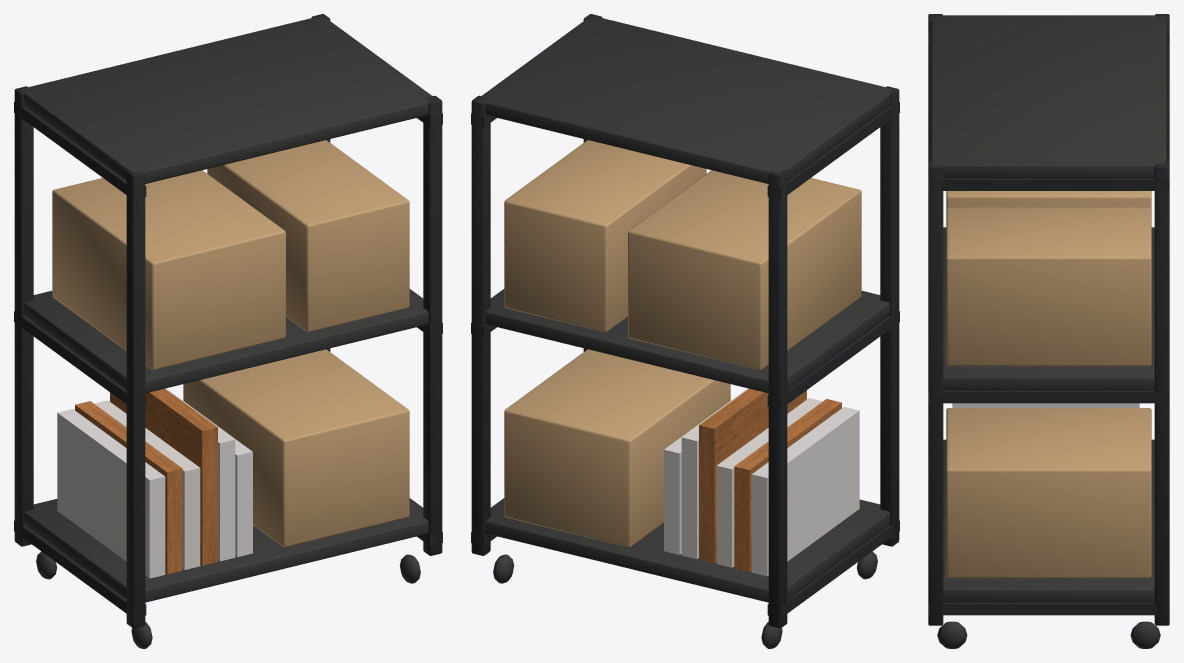
Rendered from utility.supply-cart.glb.
The picture shows the model from 3 angles, left to right: view 1: azimuth 30°, elevation 25°; view 2: azimuth 150°, elevation 25°; view 3: azimuth 270°, elevation 25°; orthographic projection.
Parts seen in each view (by area): view 1: utility.supply-cart.001; view 2: utility.supply-cart.001; view 3: utility.supply-cart.001.
Part boxes in pixels (box(x1,y1,x2,y2)): utility.supply-cart.001: box(14, 14, 442, 648); utility.supply-cart.001: box(471, 14, 899, 648); utility.supply-cart.001: box(928, 14, 1169, 648).
Bounding box in the file's own units: 0.6 × 0.9 × 0.4.
6 materials, 1 textured.
